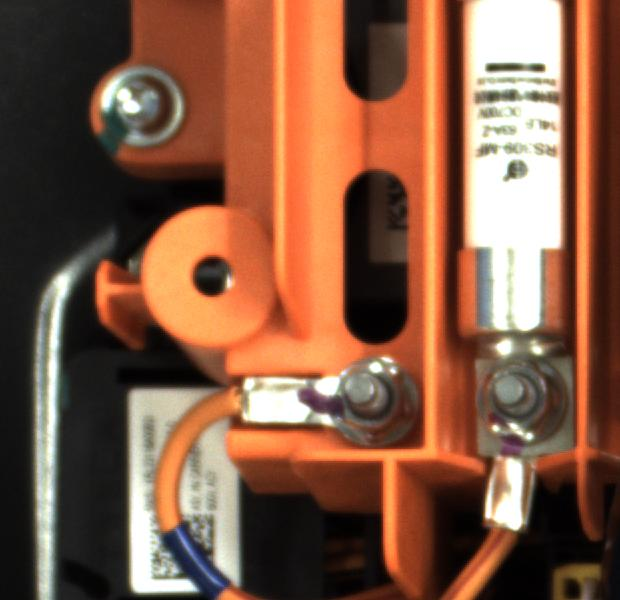screw_m: (90, 61, 192, 154)
screw_s: (315, 355, 420, 444), (471, 355, 564, 439)
